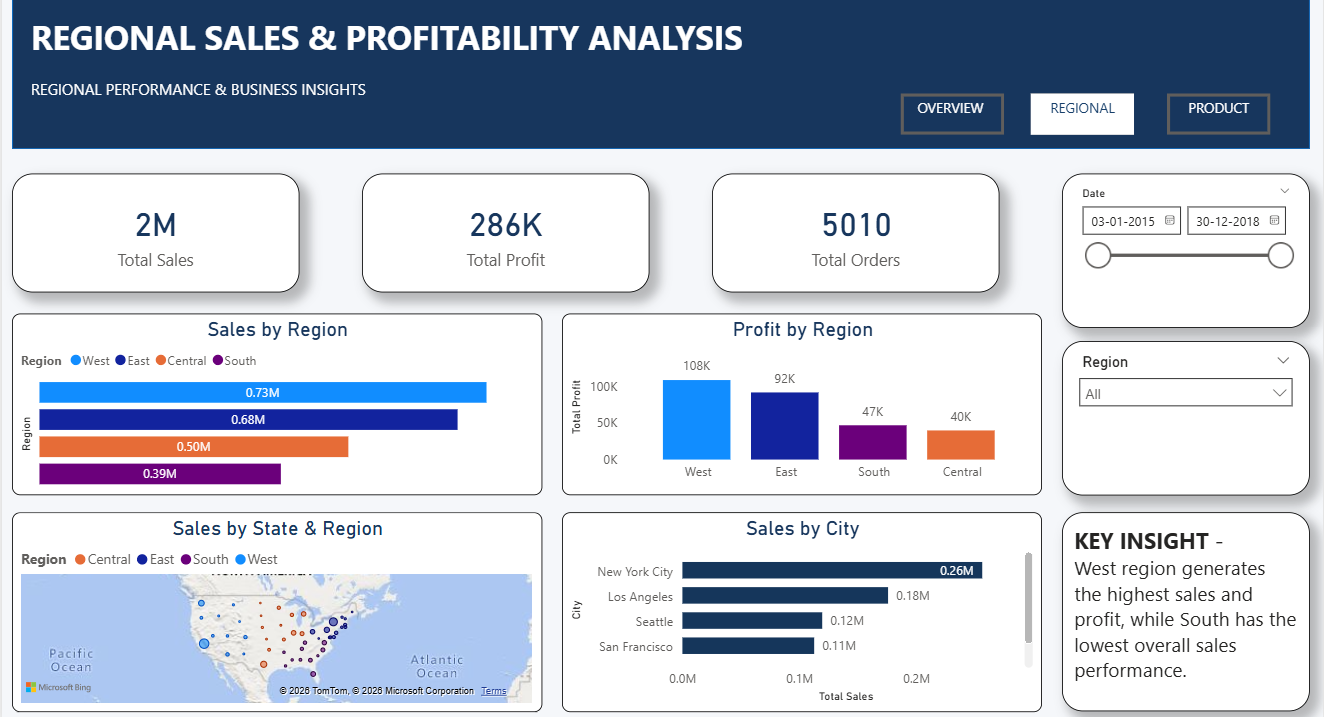

What the dashboard file says about the page in this screenshot:
{"tool":"powerbi","page":{"name":"Regional","canvas":[1280,720],"ordinal":1},"visuals":[{"type":"card","fields":{"Values":["superstore_sales_processed.Total Sales"]},"box":[9.6,186.6,278,115.3],"z":0},{"type":"card","fields":{"Values":["superstore_sales_processed.Total Profit"]},"box":[348.8,186.6,278.6,115.3],"z":1000},{"type":"card","fields":{"Values":["superstore_sales_processed.Total Orders"]},"box":[687.6,186.6,278.6,115.3],"z":2000},{"type":"shape","box":[9.6,15.1,1257,148.2],"z":3000},{"type":"textbox","box":[23.3,27.4,756.1,61.7],"z":4000},{"type":"textbox","box":[23.3,89.2,756.1,38.4],"z":5000},{"type":"barChart","title":"Sales by Region","fields":{"Category":["superstore_sales_processed.Region"],"Y":["superstore_sales_processed.Total Sales"],"Series":["superstore_sales_processed.Region"]},"box":[9.6,322.5,513.2,175.6],"z":6000},{"type":"clusteredColumnChart","title":"Profit by Region","fields":{"Y":["superstore_sales_processed.Total Profit"],"Category":["superstore_sales_processed.Region"]},"box":[542,322.5,465.2,175.6],"z":7000},{"type":"clusteredBarChart","title":"Sales by City","fields":{"Y":["superstore_sales_processed.Total Sales"],"Category":["superstore_sales_processed.City"]},"box":[542,514.6,465.2,193.5],"z":8000},{"type":"slicer","fields":{"Values":["DimDate.Date"]},"box":[1026.4,186.6,240.1,149.6],"z":9000},{"type":"slicer","fields":{"Values":["superstore_sales_processed.Region"]},"box":[1026.4,348.5,240.1,149.6],"z":10000},{"type":"actionButton","box":[1128,108.4,100.2,39.8],"z":11000},{"type":"actionButton","box":[996.2,108.4,100.2,39.8],"z":12000},{"type":"actionButton","box":[870,108.4,100.2,39.8],"z":13000},{"type":"textbox","box":[870,108.4,96.1,39.8],"z":14000},{"type":"textbox","box":[996.2,108.4,100.2,39.8],"z":15000},{"type":"textbox","box":[1128,108.4,100.2,39.8],"z":16000},{"type":"map","title":"Sales by State & Region","fields":{"Series":["superstore_sales_processed.Region"],"Category":["superstore_sales_processed.State"],"Size":["superstore_sales_processed.Total Sales"]},"box":[9.6,514.6,513.2,193.5],"z":17000},{"type":"textbox","box":[1026,515,240,193],"z":17001}]}

Visuals, with their boxes on the page's 1280x720 design canvas (x1, y1, x2, y2). These are canvas units, not pixel positions in the 1324x717 screenshot, which may show the page scaled, cropped or inside an application window:
card - superstore_sales_processed.Total Sales: (10, 187, 288, 302)
card - superstore_sales_processed.Total Profit: (349, 187, 627, 302)
card - superstore_sales_processed.Total Orders: (688, 187, 966, 302)
shape: (10, 15, 1267, 163)
textbox: (23, 27, 779, 89)
textbox: (23, 89, 779, 128)
"Sales by Region" barChart: (10, 322, 523, 498)
"Profit by Region" clusteredColumnChart: (542, 322, 1007, 498)
"Sales by City" clusteredBarChart: (542, 515, 1007, 708)
slicer - DimDate.Date: (1026, 187, 1266, 336)
slicer - superstore_sales_processed.Region: (1026, 348, 1266, 498)
actionButton: (1128, 108, 1228, 148)
actionButton: (996, 108, 1096, 148)
actionButton: (870, 108, 970, 148)
textbox: (870, 108, 966, 148)
textbox: (996, 108, 1096, 148)
textbox: (1128, 108, 1228, 148)
"Sales by State & Region" map: (10, 515, 523, 708)
textbox: (1026, 515, 1266, 708)
